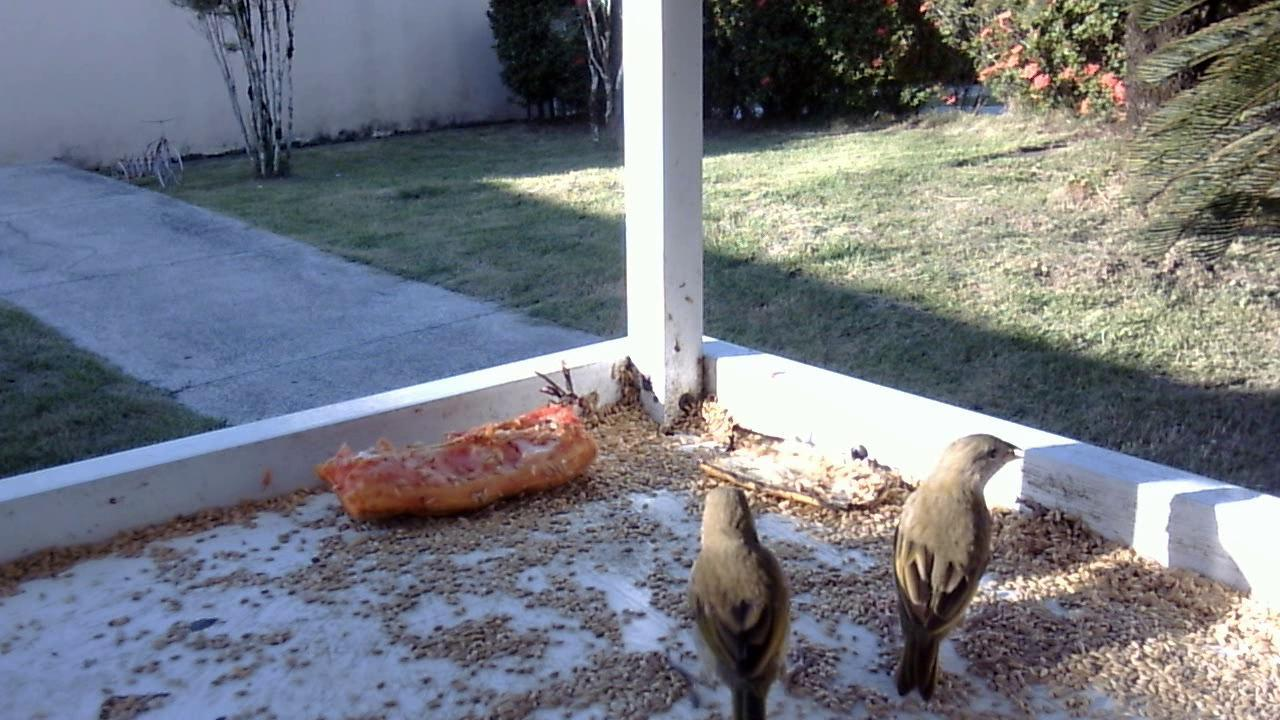canario_do_amazonas: (881, 425, 1026, 705), (663, 485, 797, 715)
